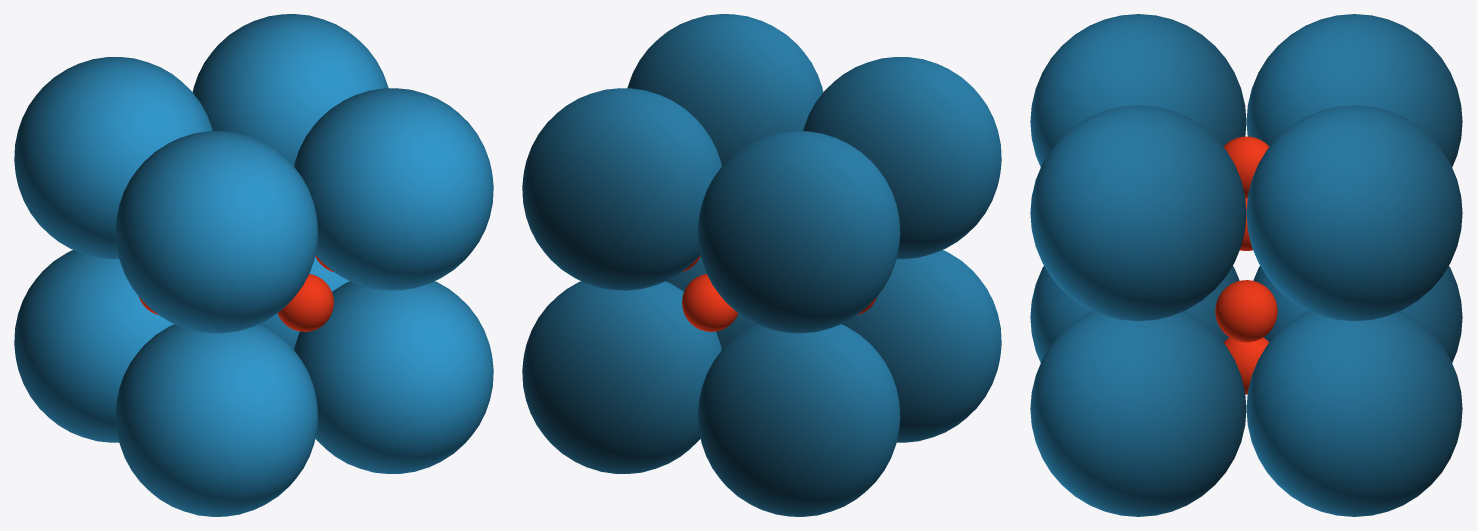
Rendered from solid_state_qn_004.glb.
The picture shows the model from 3 angles, left to right: view 1: azimuth 30°, elevation 25°; view 2: azimuth 150°, elevation 25°; view 3: azimuth 270°, elevation 25°; orthographic projection. The views are drawn at different scales.
Parts seen in each view (by area): view 1: Icosphere.015, Icosphere.019, Icosphere.014, Icosphere.018, Icosphere.012, Icosphere.016, Icosphere.013, Icosphere.022, Icosphere.017; view 2: Icosphere.012, Icosphere.016, Icosphere.013, Icosphere.017, Icosphere.015, Icosphere.019, Icosphere.014, Icosphere.023, Icosphere.018; view 3: Icosphere.014, Icosphere.013, Icosphere.017, Icosphere.018, Icosphere.012, Icosphere.015, Icosphere.016, Icosphere.019, Icosphere.024, Icosphere.020, Icosphere.021.
Boxes of the visible parts, box(x1,y1,x2,y2) form: Icosphere.015: box(115, 131, 317, 333); Icosphere.019: box(115, 324, 317, 516); Icosphere.014: box(294, 88, 493, 290); Icosphere.018: box(294, 281, 493, 473); Icosphere.012: box(14, 57, 212, 259); Icosphere.016: box(14, 250, 173, 442); Icosphere.013: box(192, 14, 388, 165); Icosphere.022: box(277, 274, 333, 331); Icosphere.017: box(260, 256, 349, 349); Icosphere.012: box(698, 131, 900, 333); Icosphere.016: box(698, 324, 900, 516); Icosphere.013: box(522, 88, 721, 290); Icosphere.017: box(522, 281, 721, 473); Icosphere.015: box(803, 57, 1001, 259); Icosphere.019: box(842, 250, 1001, 442); Icosphere.014: box(627, 14, 823, 165); Icosphere.023: box(682, 274, 738, 331); Icosphere.018: box(666, 256, 755, 349); Icosphere.014: box(1030, 105, 1246, 321); Icosphere.013: box(1246, 105, 1462, 321); Icosphere.017: box(1246, 311, 1462, 516); Icosphere.018: box(1030, 311, 1246, 516); Icosphere.012: box(1246, 14, 1462, 167); Icosphere.015: box(1030, 14, 1246, 167); Icosphere.016: box(1253, 266, 1462, 362); Icosphere.019: box(1030, 266, 1239, 362); Icosphere.024: box(1215, 280, 1277, 342); Icosphere.020: box(1223, 136, 1269, 198); Icosphere.021: box(1223, 337, 1269, 394).
Size of the model in its own units: 4 by 4 by 4.
Materials: 1 (1 with a texture image).
